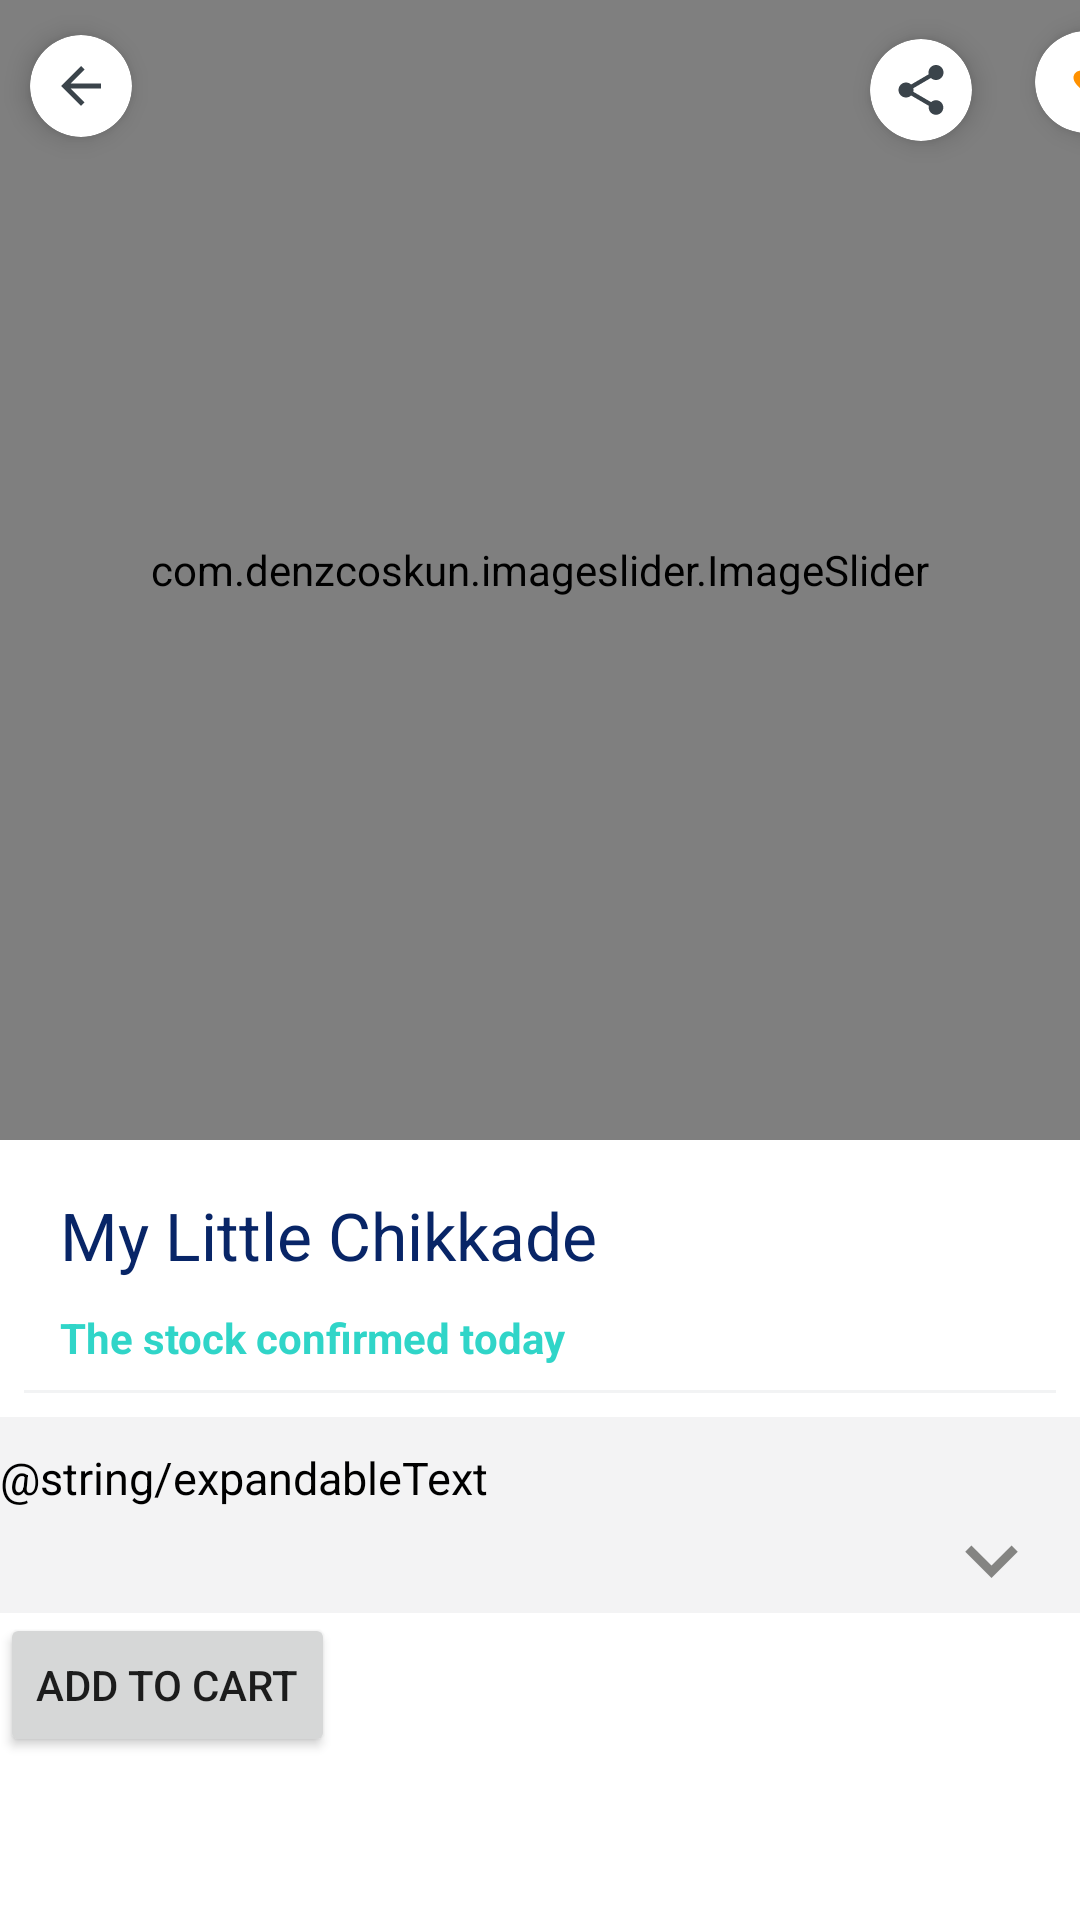

Where icons sit on this 1080w x 1920h app screen, as (x1, y1, x2, y2):
more: (965, 1545, 1018, 1578)
sharee: (898, 65, 944, 115)
